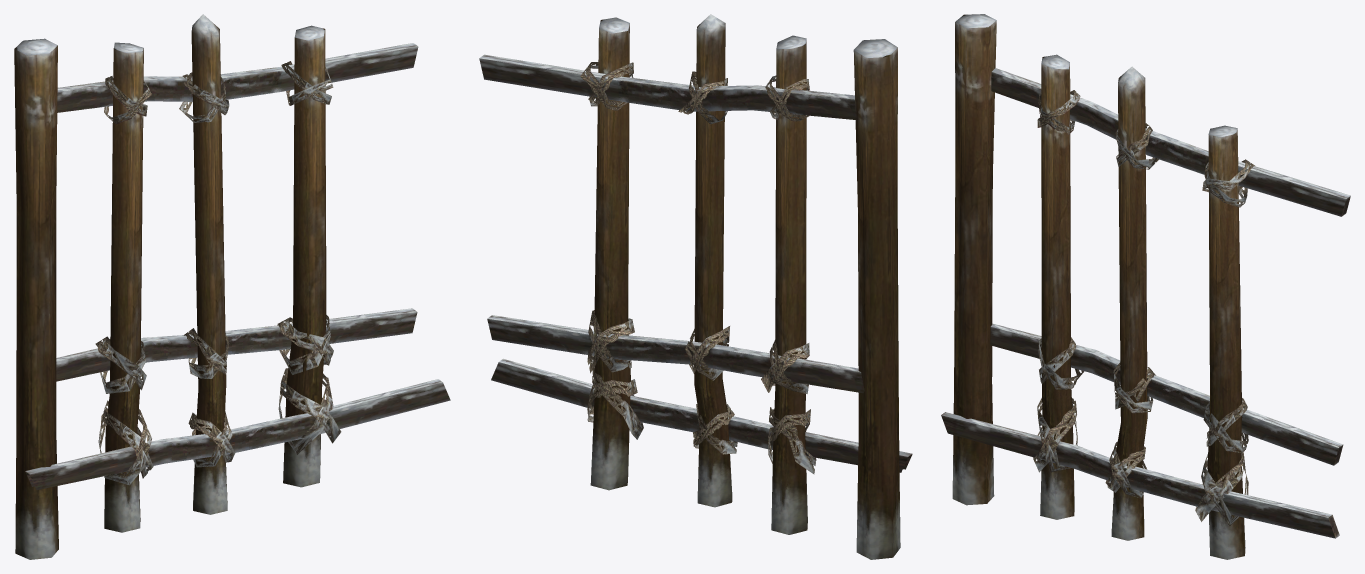
File: Item_12.FBX
3 renders of one model, left to right at view 1: azimuth 30°, elevation 25°; view 2: azimuth 150°, elevation 25°; view 3: azimuth 330°, elevation 25°, orthographic. The views are drawn at different scales.
Visible parts, largest first — view 1: Item_12; view 2: Item_12; view 3: Item_12.
Part boxes in pixels (left/top/right/bottom): Item_12: left=14, top=14, right=450, bottom=559; Item_12: left=479, top=14, right=912, bottom=559; Item_12: left=941, top=14, right=1350, bottom=559.
Size of the model in its own units: 246 by 33.59 by 284.
